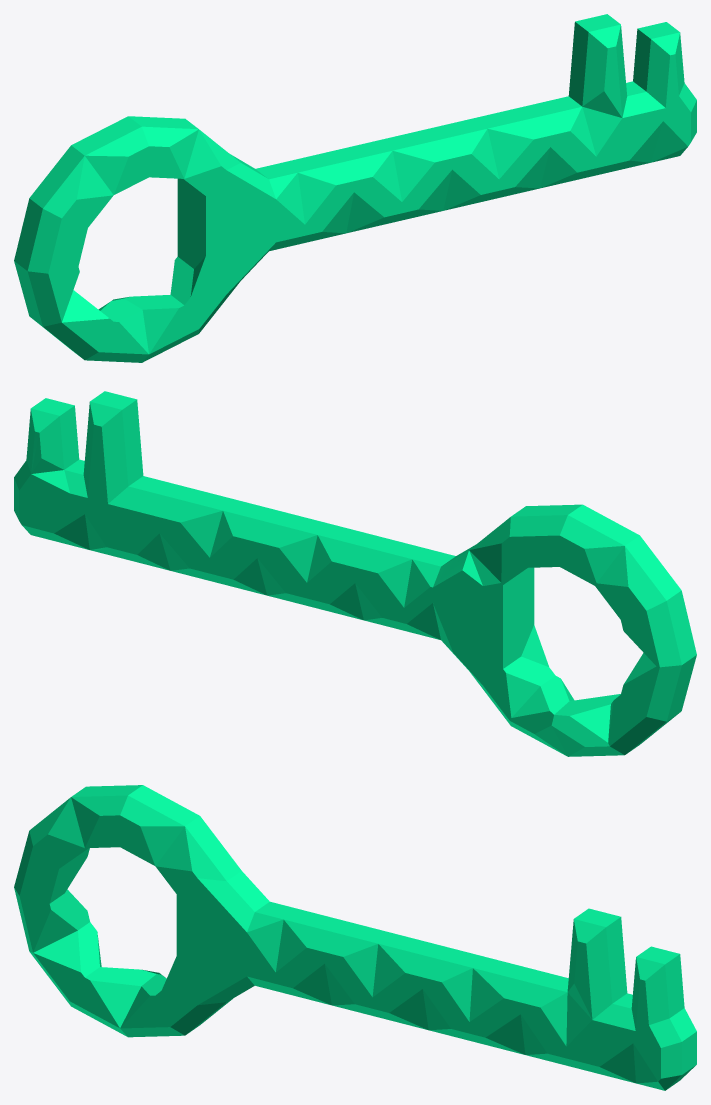
File: green_key.glb
3 views of the same model, one above another, from view 1: azimuth 30°, elevation 25°; view 2: azimuth 150°, elevation 25°; view 3: azimuth 330°, elevation 25° (orthographic). The views are drawn at different scales.
Parts seen in each view (by area): view 1: Circle.026; view 2: Circle.026; view 3: Circle.026.
Part boxes in pixels (x1,y1,x2,y2): Circle.026: [14, 14, 696, 362]; Circle.026: [14, 391, 696, 756]; Circle.026: [14, 785, 696, 1090].
Size of the model in its own units: 1.89 by 0.6454 by 0.2163.
1 material, 1 textured.
